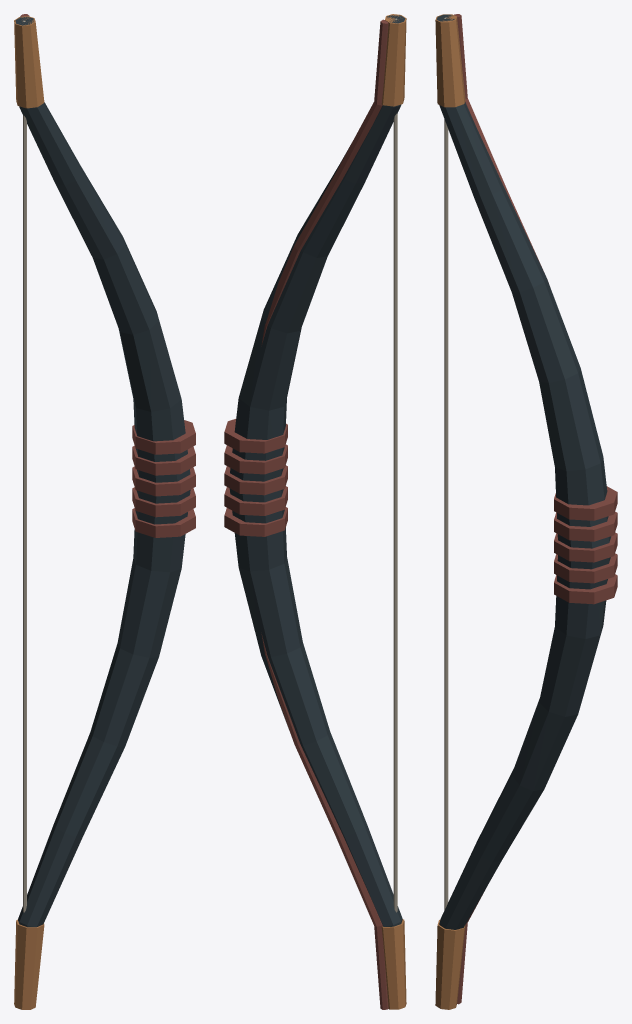
The model's file is AEW_Bow_AshRecurve.fbx.
The picture shows the model from 3 angles, left to right: view 1: azimuth 30°, elevation 25°; view 2: azimuth 150°, elevation 25°; view 3: azimuth 330°, elevation 25°; orthographic projection.
Visible parts, largest first — view 1: AEW_Bow_AshRecurve; view 2: AEW_Bow_AshRecurve; view 3: AEW_Bow_AshRecurve.
Part boxes in pixels (bbox=[...]): AEW_Bow_AshRecurve: bbox=[14, 14, 195, 1009]; AEW_Bow_AshRecurve: bbox=[224, 14, 406, 1009]; AEW_Bow_AshRecurve: bbox=[435, 14, 617, 1009].
Size of the model in its own units: 0.2676 by 1.42 by 0.086.
